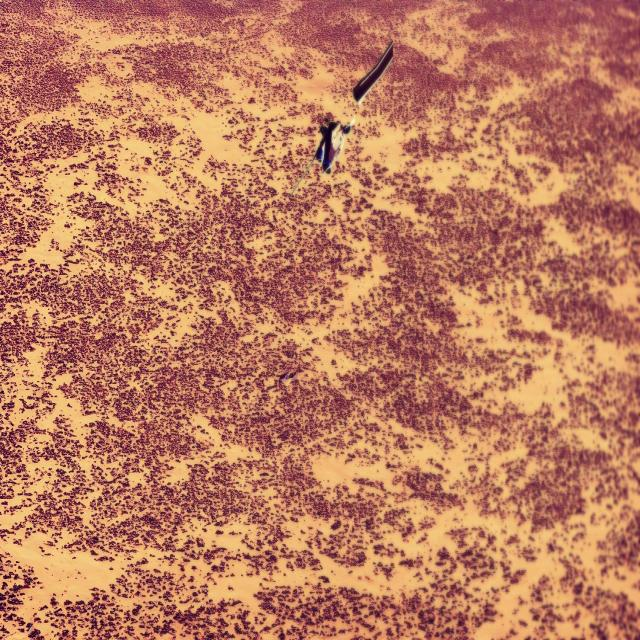airplane: (291, 39, 394, 197)
